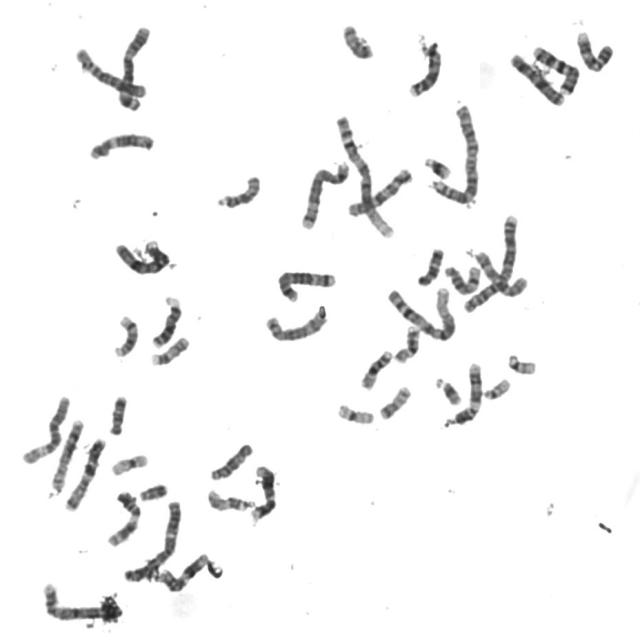A1: (332, 111, 397, 240), (384, 282, 459, 342)
A2: (460, 209, 521, 314), (427, 98, 483, 206)
A3: (121, 495, 184, 584), (114, 20, 154, 112)
B4: (38, 578, 124, 623), (116, 233, 174, 277)
B5: (298, 157, 352, 230), (274, 265, 338, 304)
C10: (344, 163, 415, 218), (472, 245, 531, 298)
C11: (156, 548, 211, 594), (103, 487, 143, 548)
C12: (86, 127, 157, 161), (246, 462, 279, 522)
C6: (71, 42, 150, 99), (18, 390, 73, 466)
C7: (61, 433, 109, 512), (529, 40, 583, 96)
C8: (47, 414, 87, 494), (262, 304, 330, 343)
C9: (447, 357, 485, 427), (572, 25, 616, 73)
D13: (405, 38, 444, 99), (148, 292, 184, 349)
D14: (110, 310, 142, 359), (442, 260, 484, 296)
D15: (207, 438, 256, 482), (213, 170, 263, 210)
E16: (357, 345, 395, 391), (391, 321, 423, 364)
E17: (147, 331, 192, 367), (204, 484, 256, 513)
E18: (414, 243, 447, 287), (106, 389, 130, 437)
F19: (107, 448, 151, 477), (334, 398, 376, 426)
F20: (376, 380, 414, 421), (339, 28, 373, 61)
G21: (433, 373, 464, 406), (421, 151, 455, 181)
G22: (480, 373, 514, 401), (504, 349, 539, 376)
X: (506, 48, 568, 106)
Y: (136, 479, 170, 502)
